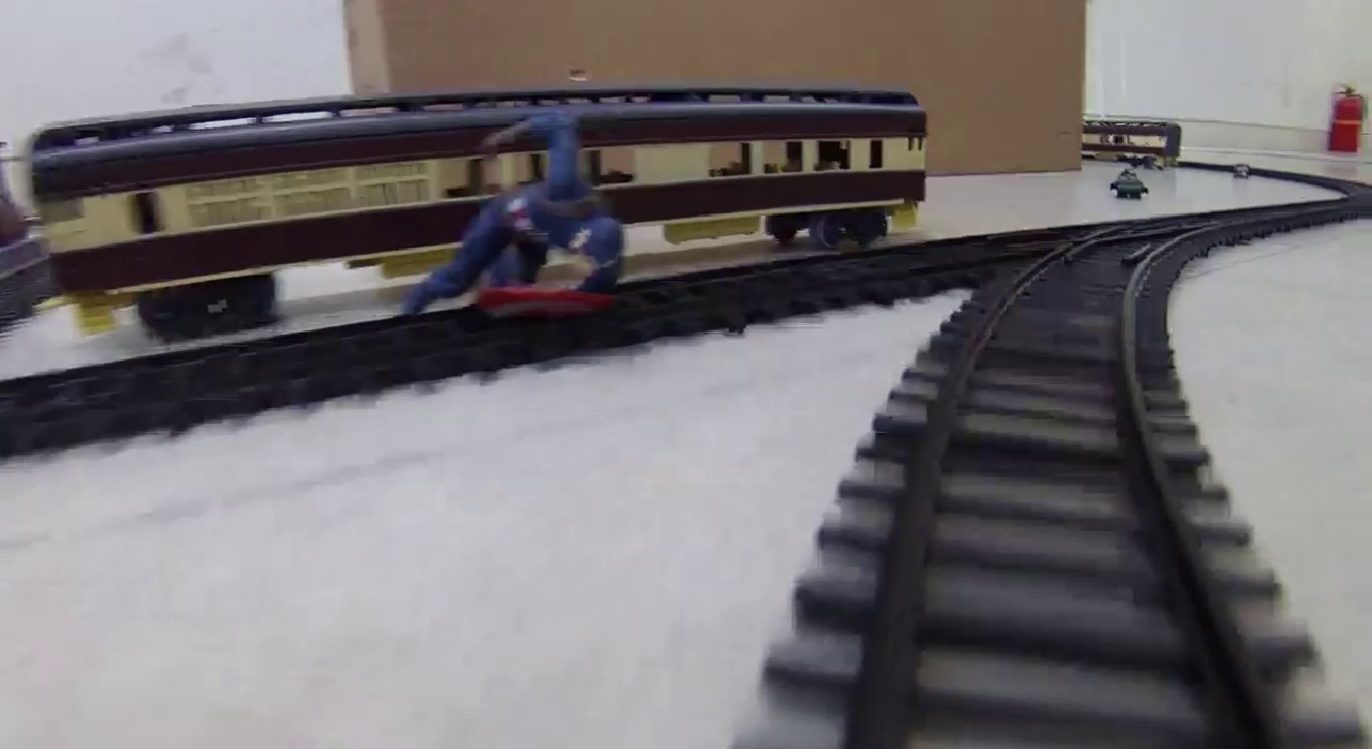people: (402, 112, 627, 319)
